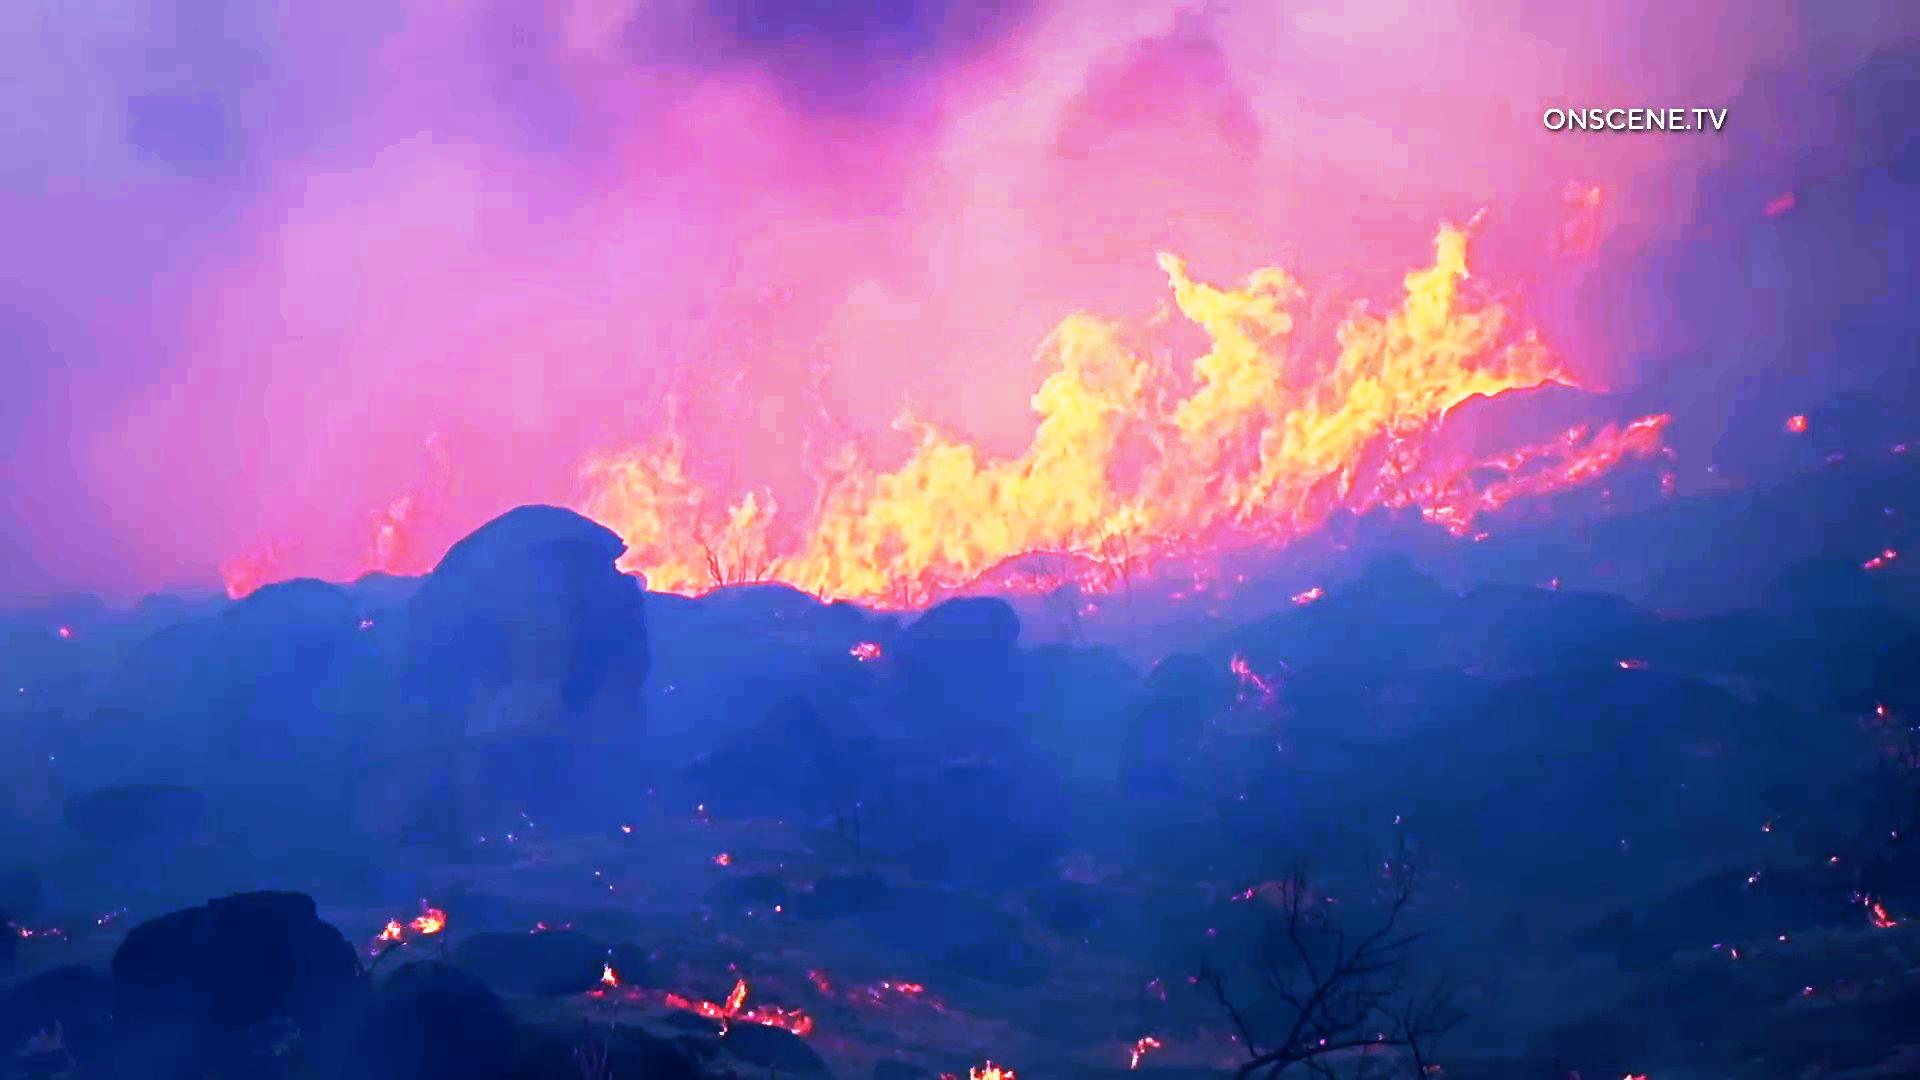fire: (1287, 218, 1588, 491), (1036, 253, 1291, 534), (777, 373, 1018, 580), (596, 376, 775, 571)
